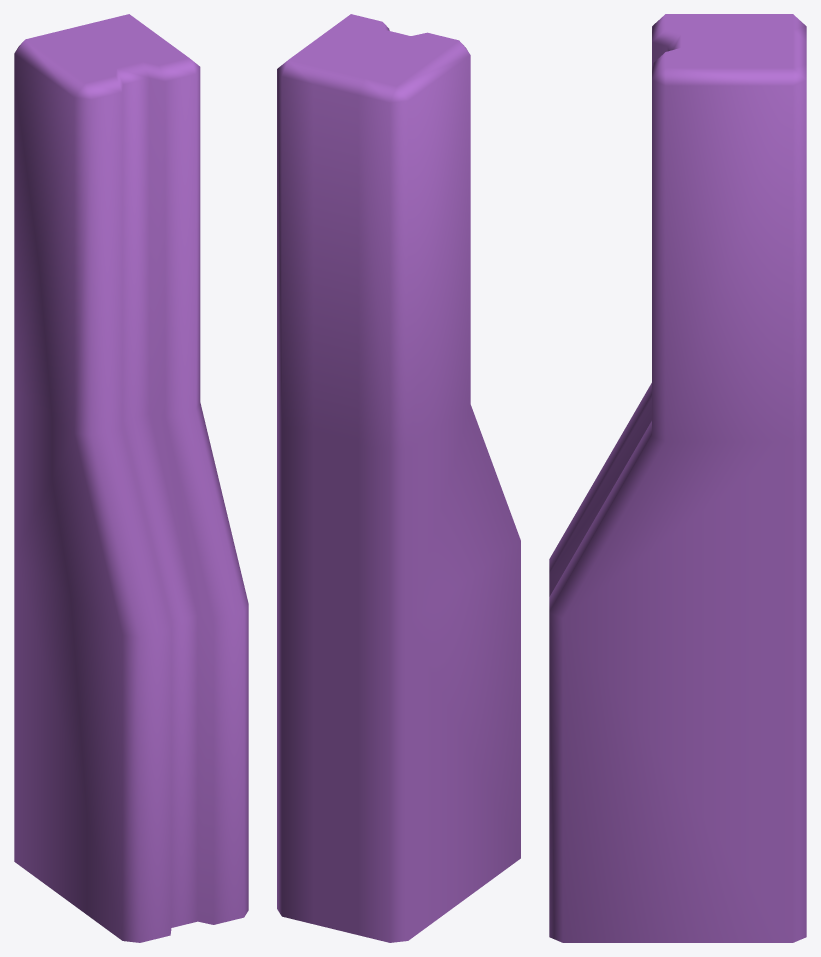
The model's file is Wall_Column.FBX.
The picture shows the model from 3 angles, left to right: view 1: azimuth 30°, elevation 25°; view 2: azimuth 150°, elevation 25°; view 3: azimuth 270°, elevation 25°; orthographic projection. The views are drawn at different scales.
Visible parts, largest first — view 1: Box006; view 2: Box006; view 3: Box006.
Part boxes in pixels (box(x1,y1,x2,y2)): Box006: box(14, 14, 248, 942); Box006: box(277, 14, 520, 942); Box006: box(549, 14, 806, 942).
Size of the model in its own units: 50 by 310 by 83.17.
